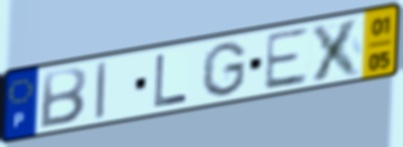B: (37, 65, 89, 131)
E: (261, 25, 309, 93)
G: (199, 40, 249, 99)
I: (93, 59, 110, 122)
L: (152, 52, 190, 109)
X: (309, 14, 365, 84)
